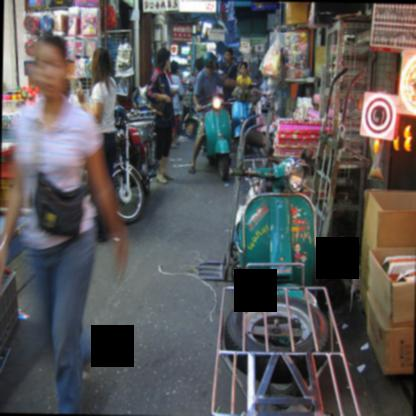handbag: (34, 168, 90, 238), (148, 70, 166, 115)
